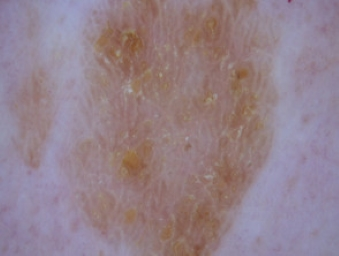seborrheic keratosis: (65, 10, 271, 253)
